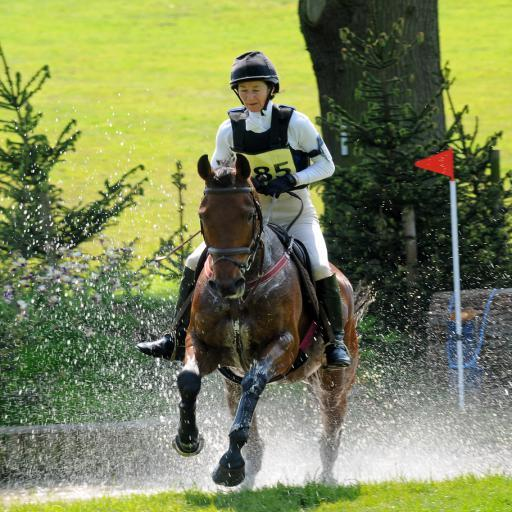Horse: (168, 150, 360, 489)
